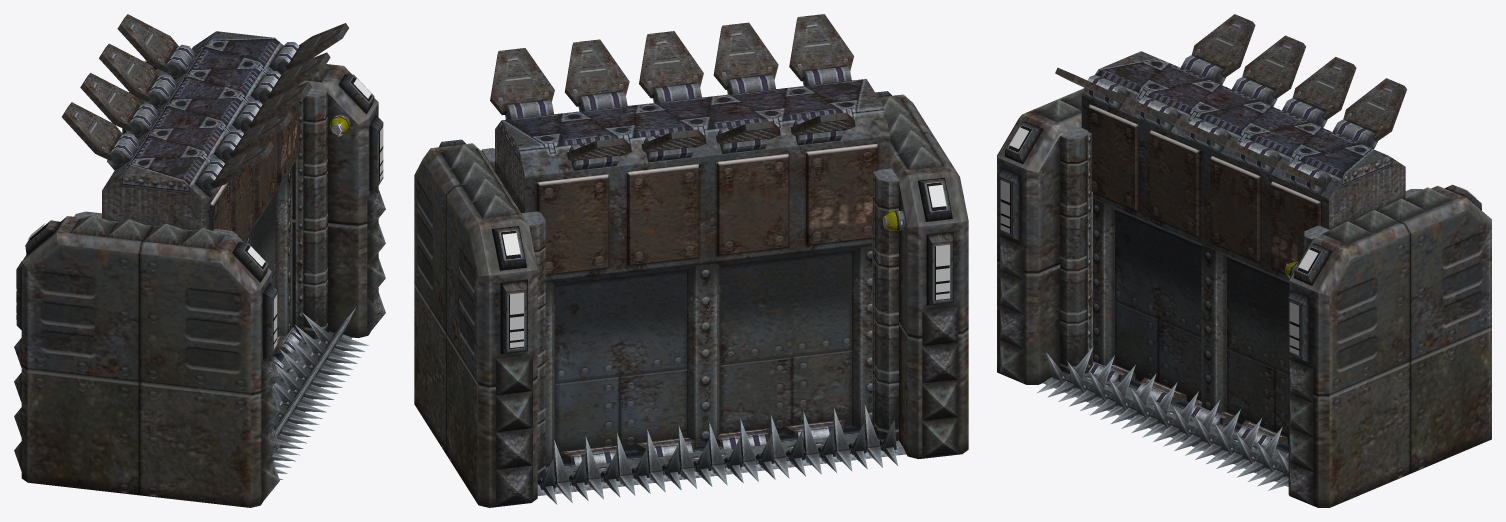
The model's file is destructiblegatediagonal.fbx.
The picture shows the model from 3 angles, left to right: view 1: azimuth 30°, elevation 25°; view 2: azimuth 150°, elevation 25°; view 3: azimuth 270°, elevation 25°; orthographic projection. The views are drawn at different scales.
Visible parts, largest first — view 1: Geoset_4, Geoset_2, Geoset_1, Geoset_3, Geoset_0; view 2: Geoset_2, Geoset_4, Geoset_1, Geoset_0, Geoset_3; view 3: Geoset_2, Geoset_4, Geoset_1, Geoset_0, Geoset_3.
Part boxes in pixels (x1=…): Geoset_4: x1=14, y1=62, x2=385, y2=507; Geoset_2: x1=62, y1=14, x2=355, y2=437; Geoset_1: x1=271, y1=327, x2=368, y2=479; Geoset_3: x1=16, y1=60, x2=383, y2=349; Geoset_0: x1=271, y1=334, x2=352, y2=460; Geoset_2: x1=490, y1=14, x2=896, y2=489; Geoset_4: x1=414, y1=91, x2=968, y2=507; Geoset_1: x1=537, y1=419, x2=897, y2=504; Geoset_0: x1=537, y1=425, x2=905, y2=495; Geoset_3: x1=502, y1=185, x2=949, y2=347; Geoset_2: x1=1046, y1=14, x2=1406, y2=476; Geoset_4: x1=997, y1=88, x2=1491, y2=507; Geoset_1: x1=1037, y1=361, x2=1288, y2=490; Geoset_0: x1=1043, y1=372, x2=1288, y2=486; Geoset_3: x1=1000, y1=127, x2=1477, y2=355.
Size of the model in its own units: 4.53 by 3.46 by 4.53.
Materials: 1 (1 with a texture image).
